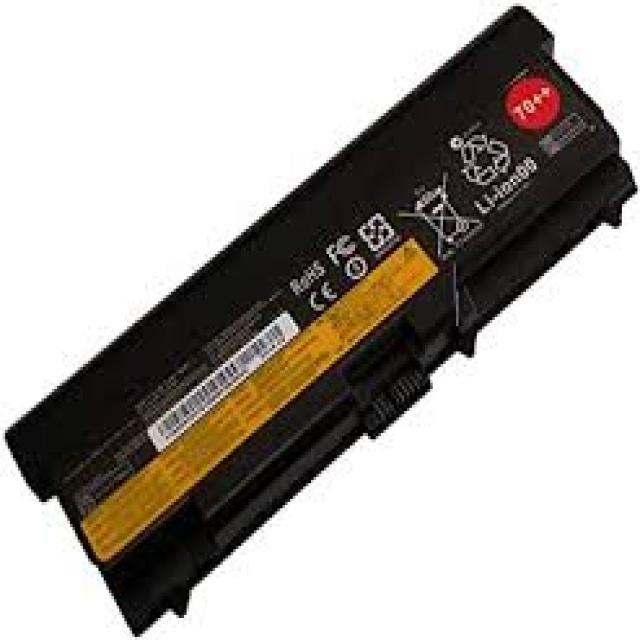battery: (8, 6, 640, 635)
